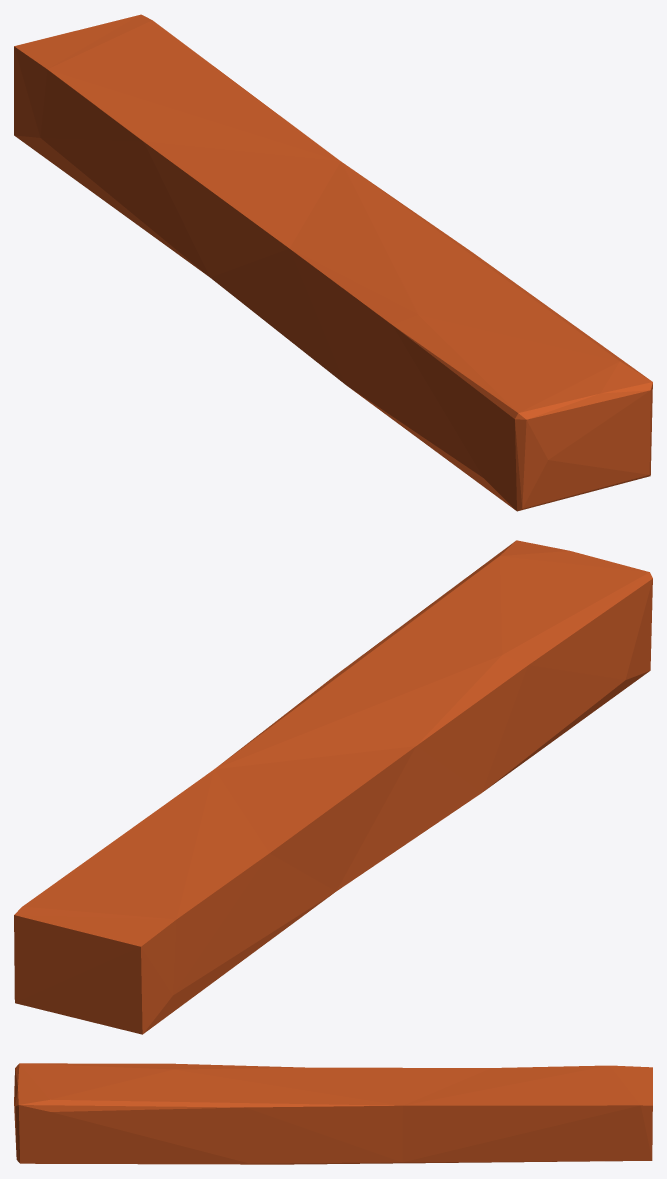
Rendered from Post_1.fbx.
3 renders of one model, top to bottom at view 1: azimuth 30°, elevation 25°; view 2: azimuth 150°, elevation 25°; view 3: azimuth 270°, elevation 25°, orthographic. The views are drawn at different scales.
Parts seen in each view (by area): view 1: Post_1; view 2: Post_1; view 3: Post_1.
Part boxes in pixels (box(x1,y1,x2,y2)): Post_1: box(14, 14, 652, 511); Post_1: box(14, 540, 652, 1034); Post_1: box(14, 1063, 652, 1164).
Size of the model in its own units: 0.4832 by 0.3339 by 3.
